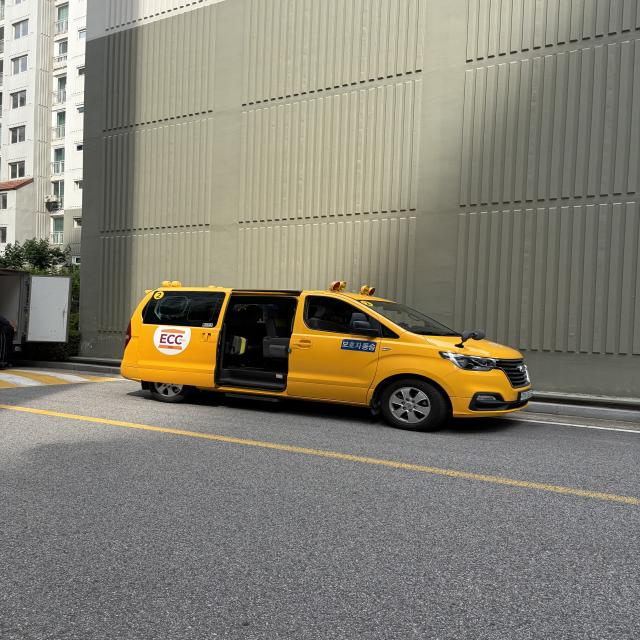car: (108, 264, 552, 458)
